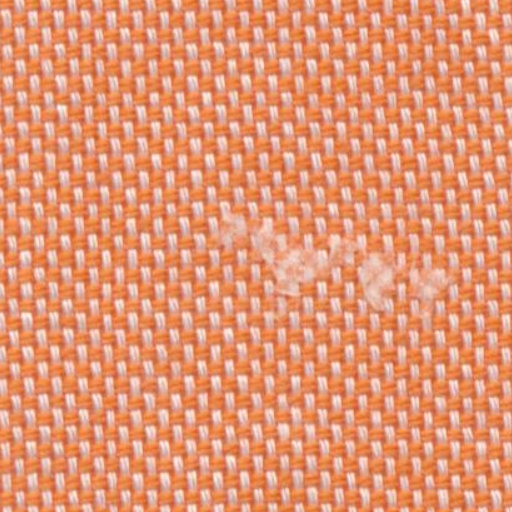DuanSha: (205, 194, 476, 318)
